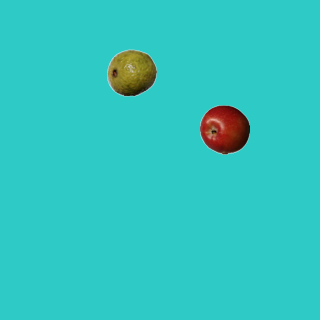Apple Braeburn: (199, 104, 249, 154)
Guava: (106, 47, 156, 97)
